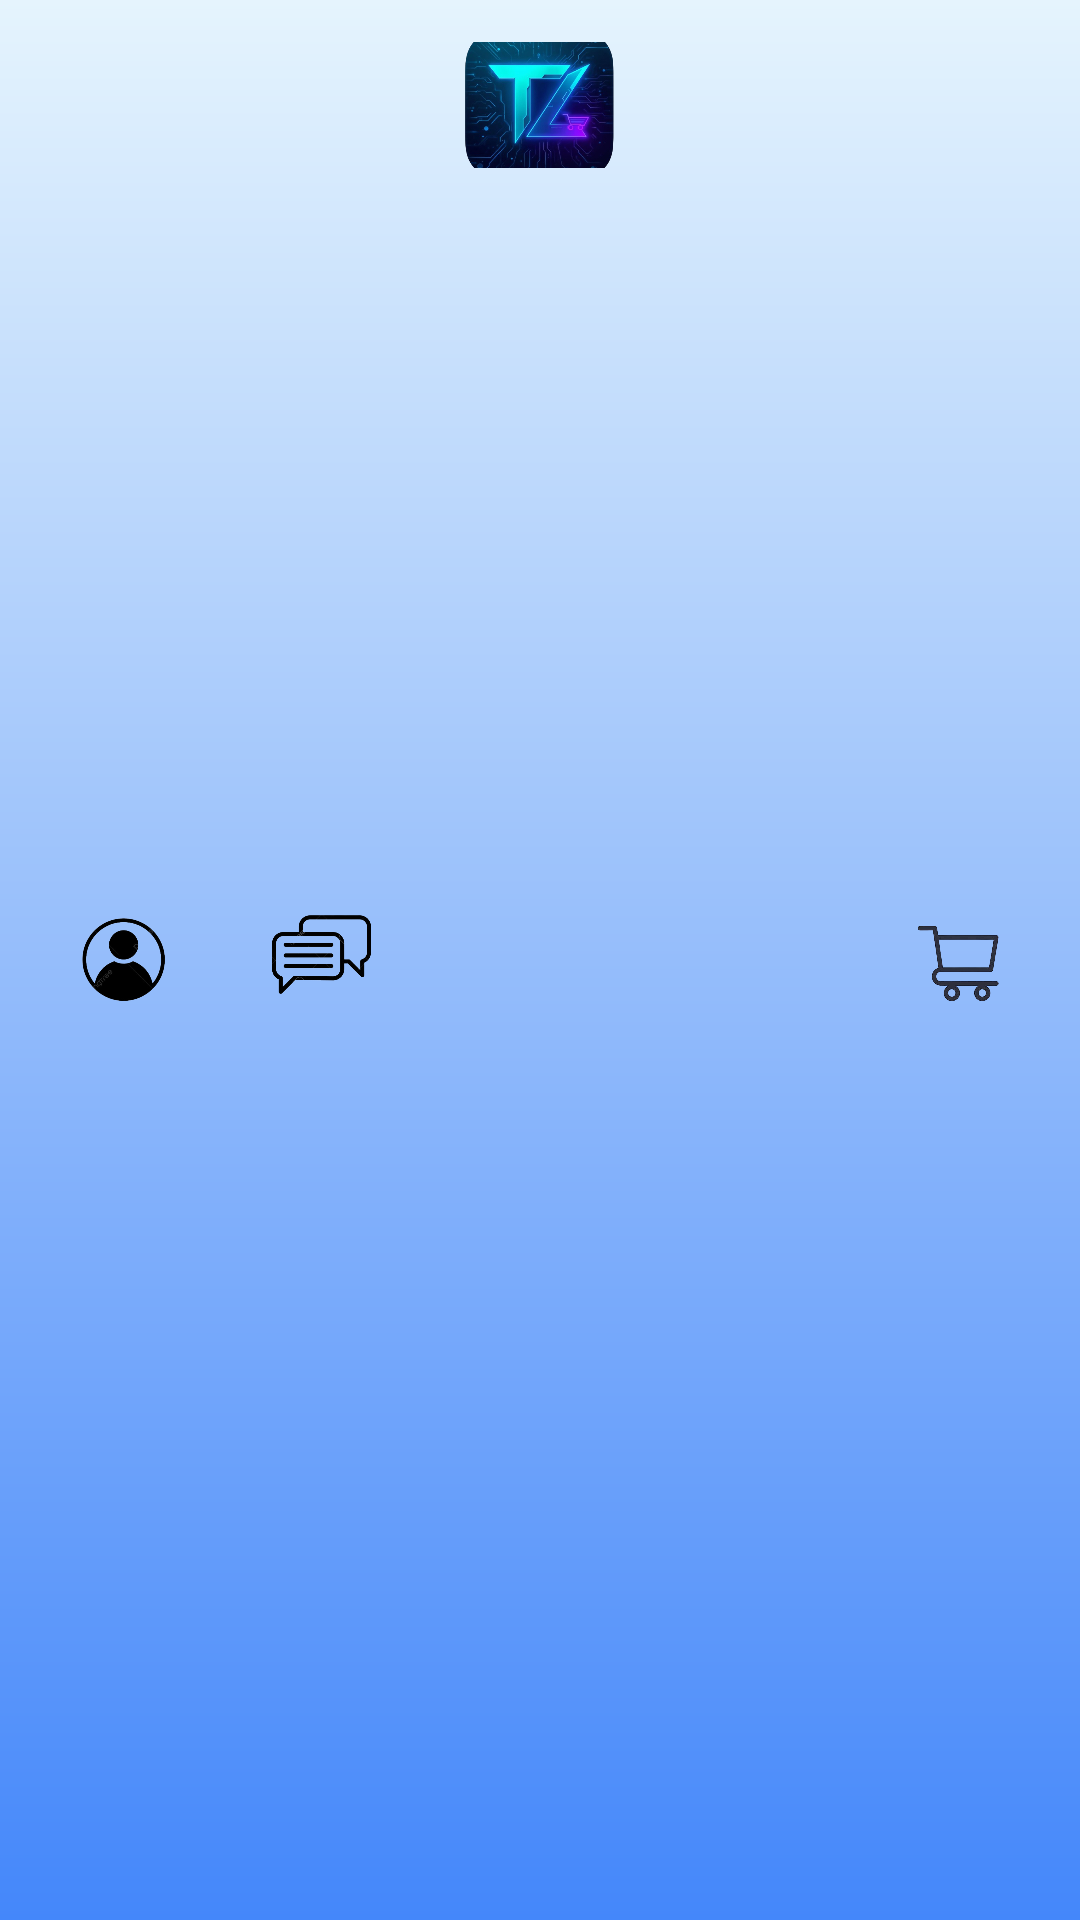

Where icons sit on this 1080x1920 app screen, as (x1, y1, x2, y2):
cart: (918, 926, 999, 1001)
chat: (272, 915, 371, 994)
profile: (82, 918, 165, 1001)
